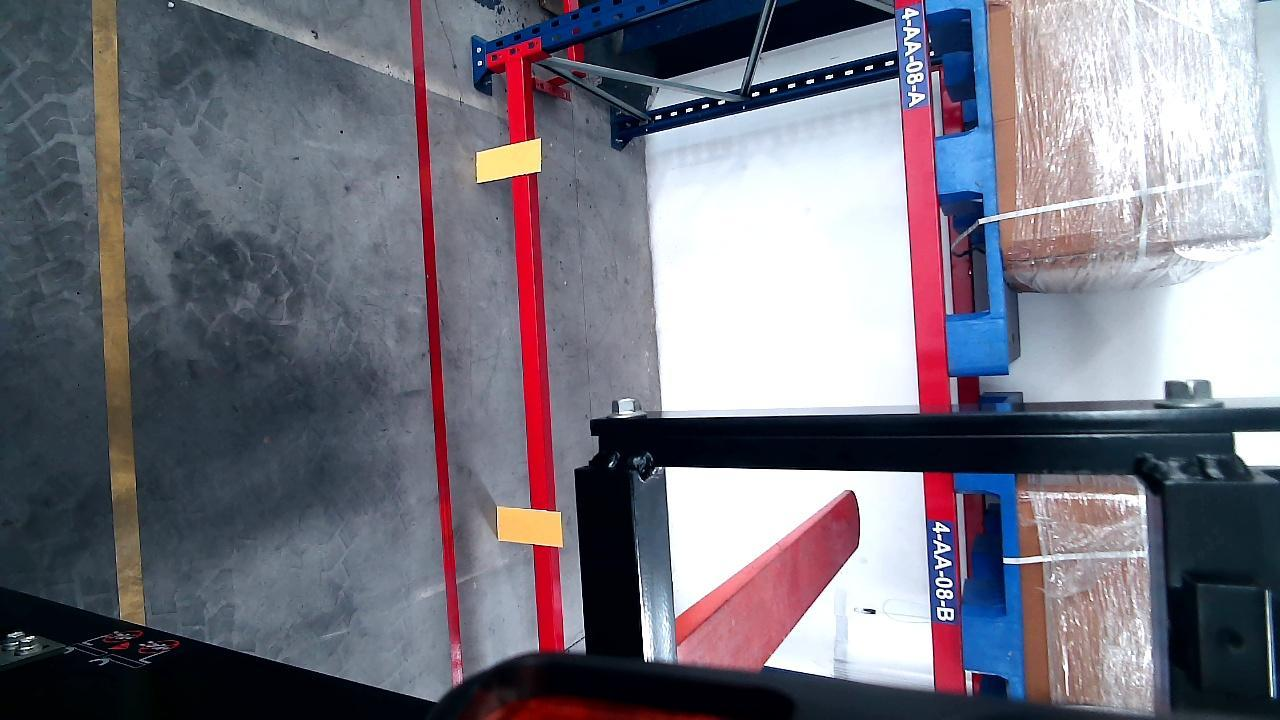red_line: (408, 1, 464, 683)
yellow_line: (90, 0, 146, 629)
